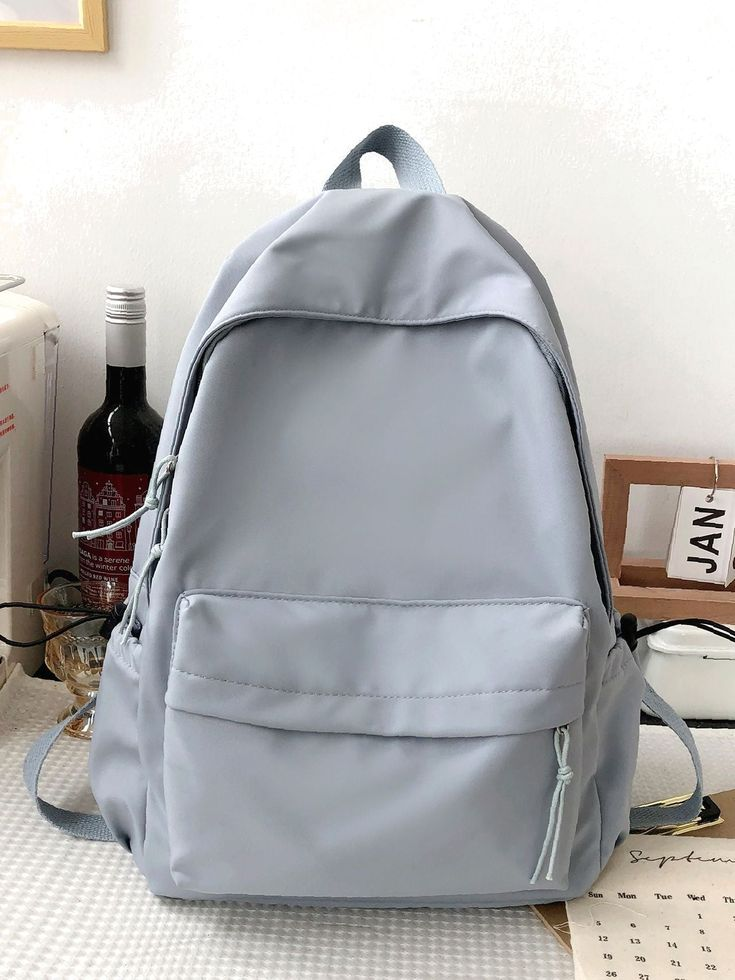nylon: (26, 124, 704, 912)
